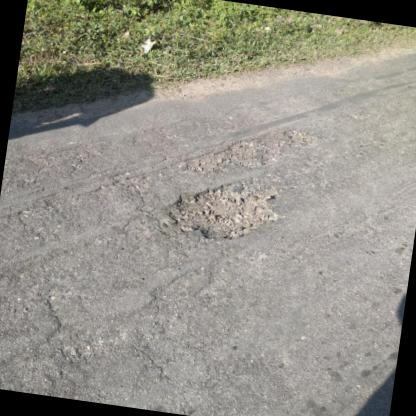pothole: (154, 166, 286, 250), (178, 127, 276, 184), (280, 124, 321, 152)
